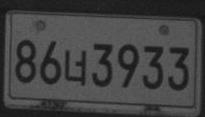3: (166, 46, 190, 91), (141, 45, 164, 89), (91, 42, 113, 86)
6: (39, 40, 62, 85)
8: (14, 38, 37, 84)
9: (117, 43, 139, 88)
너: (64, 49, 87, 86)
